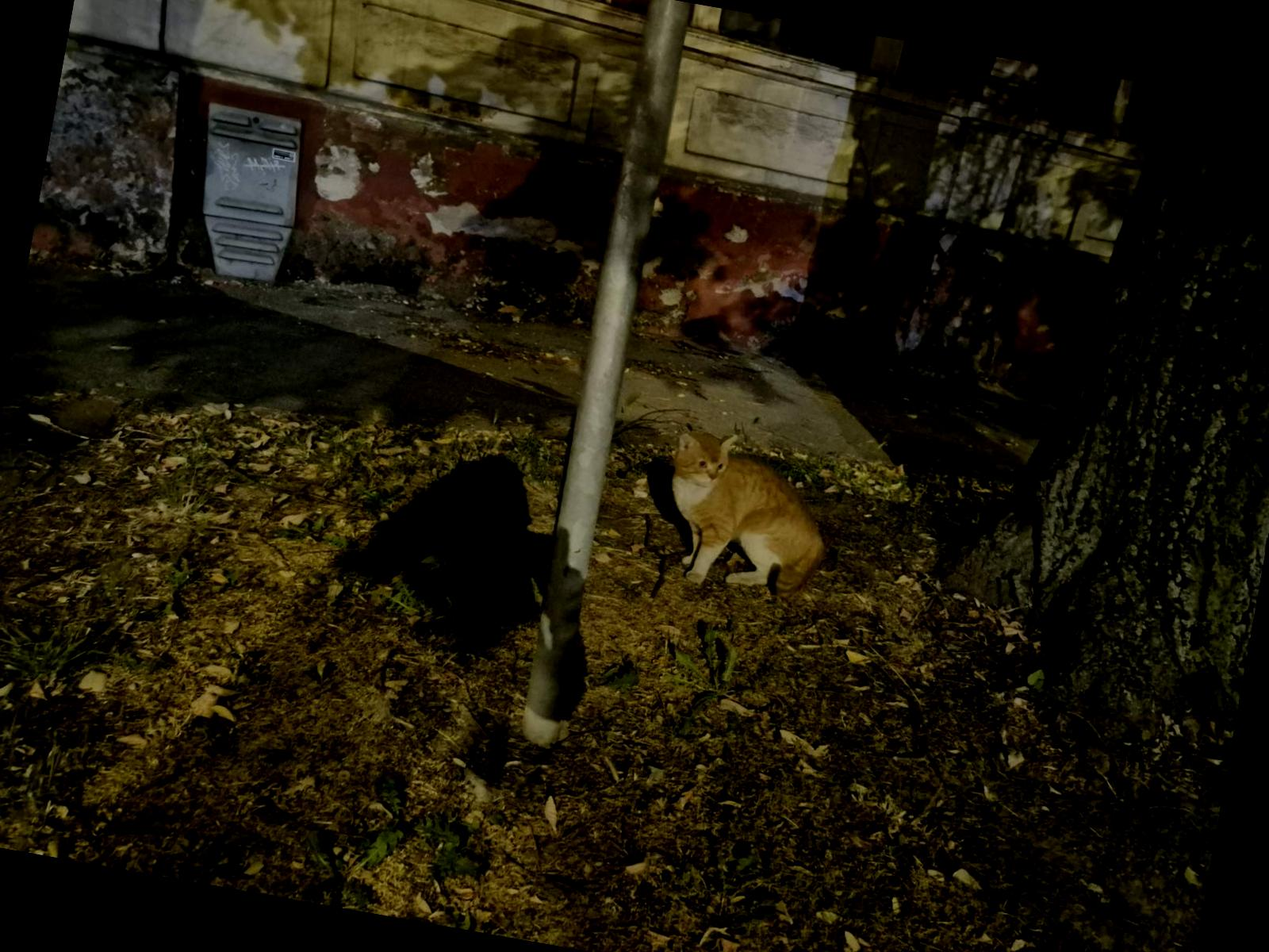macka: (652, 421, 843, 605)
